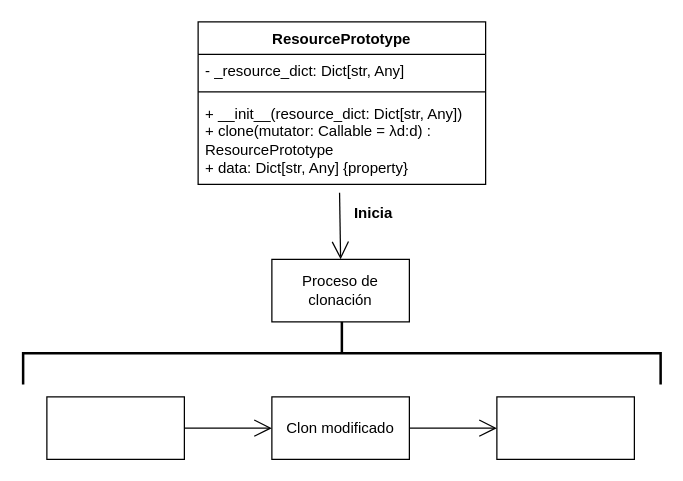
Some shapes in this 683 by 481 pixel diagram are drawn without their labels. The shapes that lost their labels are listed below. From the top down, each one's centre as x and y in pixels, then its label:
At (115,427): "Copia sin cambios".
At (565,427): "Clon encapsulado".
